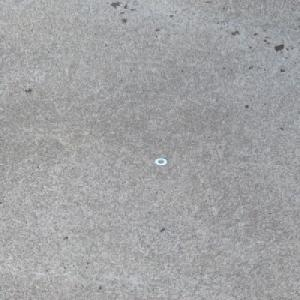Washer: (153, 157, 168, 166)
